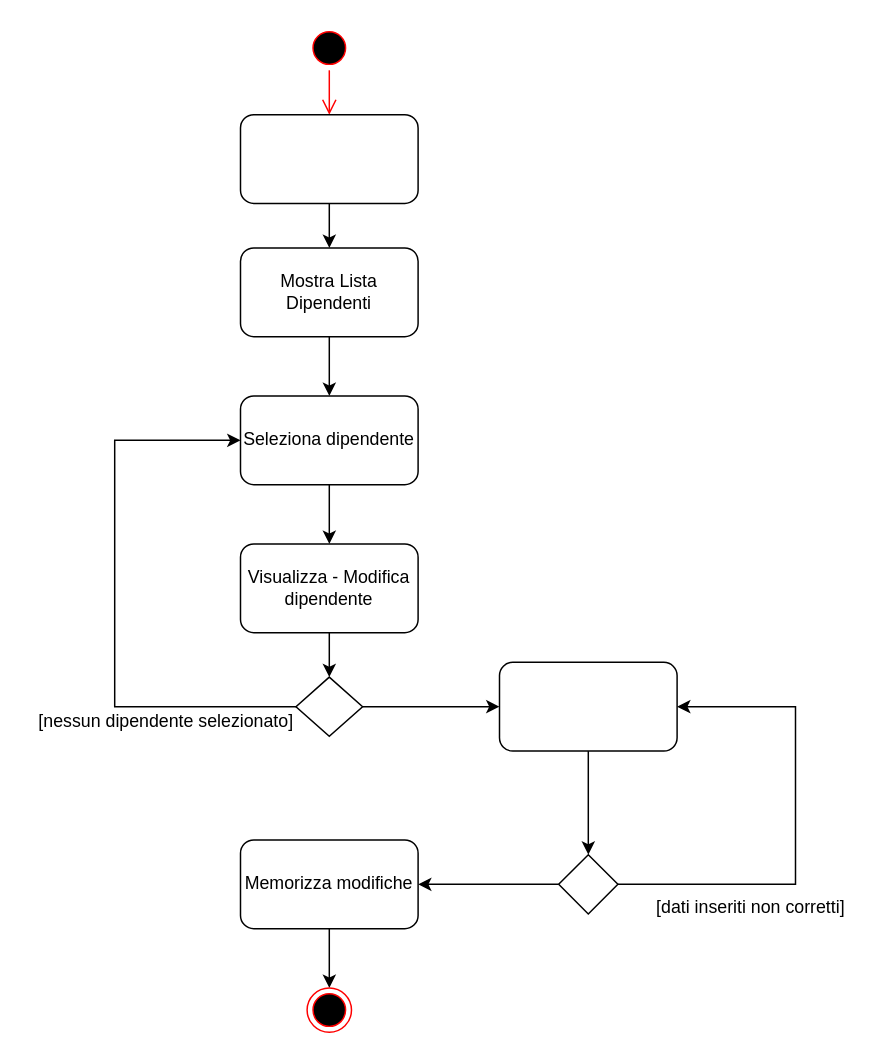
Some shapes in this 879 by 1058 pixel diagram are drawn without their labels. The centre of each missing label's shape, as x and y in pixels:
Modifica dati dipendente: point (587, 706)
Mostra Profilo Admin: point (328, 158)
